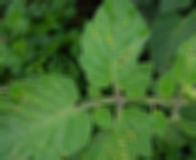Tomato leaf bacterial spot: (70, 0, 151, 102), (0, 69, 90, 160), (82, 105, 158, 160), (168, 34, 196, 94)
